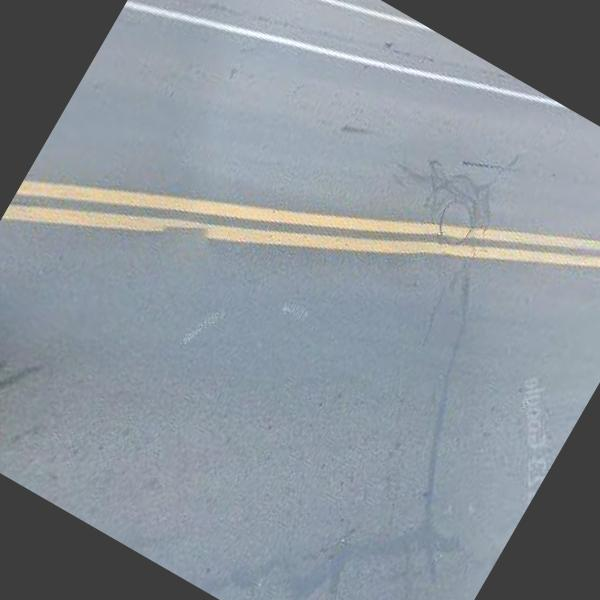manhole: (418, 184, 494, 270)
